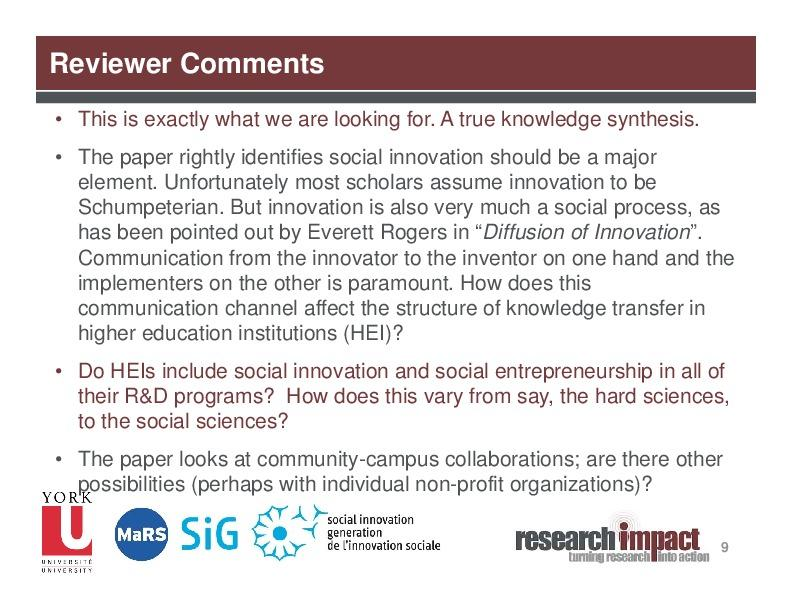paragraph: (47, 102, 758, 503)
subtitle: (31, 501, 768, 593)
title: (46, 45, 338, 83)
